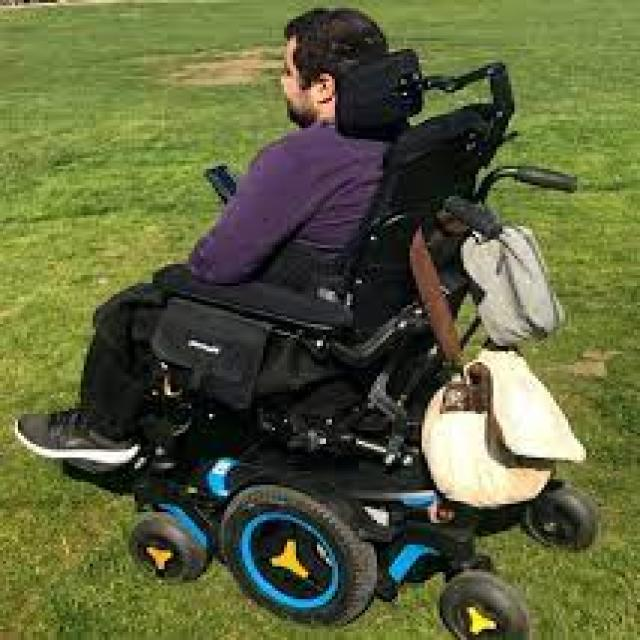wheelchairs: (0, 49, 607, 640)
